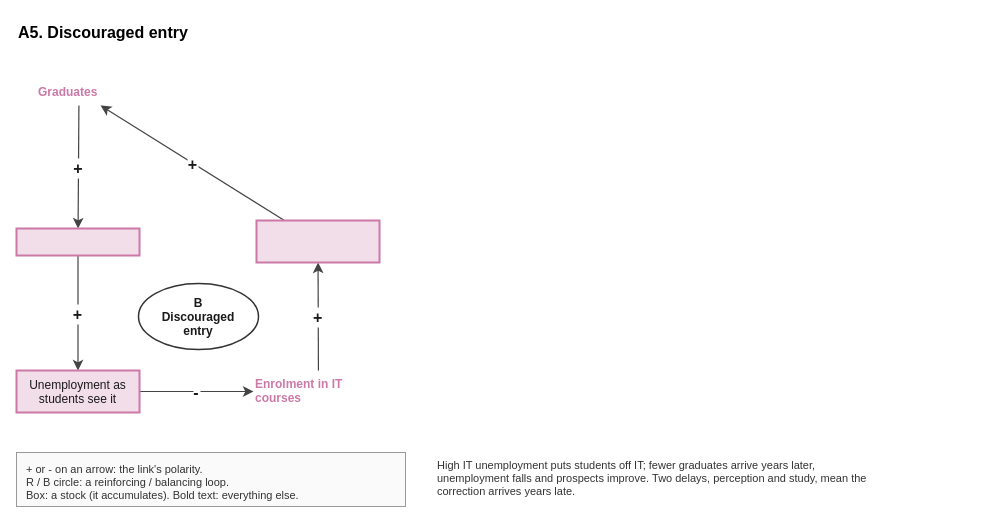
The diagram is 1006 pixels wide and 523 high, and some of its shapes have lost their labels. Each missing label, with the centre of its shape:
"IT unemployment" belongs at (x=77, y=241).
"Students in the pipeline" belongs at (x=317, y=241).
